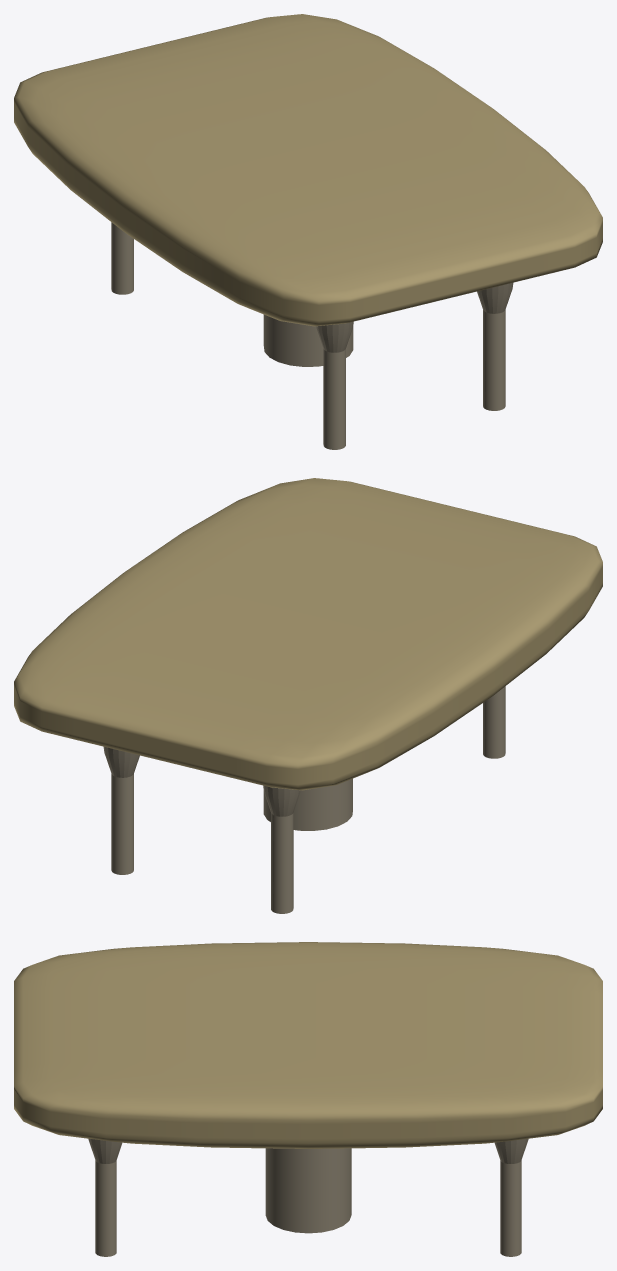
The model's file is table fized.fbx.
The picture shows the model from 3 angles, top to bottom: view 1: azimuth 30°, elevation 25°; view 2: azimuth 150°, elevation 25°; view 3: azimuth 270°, elevation 25°; orthographic projection. The views are drawn at different scales.
Visible parts, largest first — view 1: pCube165, pCylinder73, pCylinder72, pCylinder69, pCylinder70; view 2: pCube165, pCylinder70, pCylinder71, pCylinder69, pCylinder73; view 3: pCube165, pCylinder69, pCylinder71, pCylinder72.
Part boxes in pixels (bbox=[...]): pCube165: bbox=[14, 14, 602, 326]; pCylinder73: bbox=[316, 321, 353, 449]; pCylinder72: bbox=[477, 283, 513, 410]; pCylinder69: bbox=[263, 314, 353, 366]; pCylinder70: bbox=[111, 222, 133, 294]; pCube165: bbox=[14, 478, 602, 790]; pCylinder70: bbox=[263, 785, 300, 913]; pCylinder71: bbox=[103, 747, 139, 874]; pCylinder69: bbox=[263, 778, 352, 830]; pCylinder73: bbox=[483, 686, 505, 758]; pCube165: bbox=[14, 942, 602, 1148]; pCylinder69: bbox=[265, 1148, 351, 1233]; pCylinder71: bbox=[494, 1138, 528, 1256]; pCylinder72: bbox=[88, 1138, 122, 1256].
Size of the model in its own units: 180 by 93.88 by 258.
